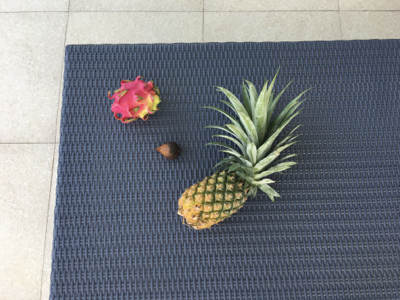dragon fruit: (107, 76, 163, 125)
pineapple: (177, 65, 314, 232)
snake fruit: (154, 141, 181, 158)
